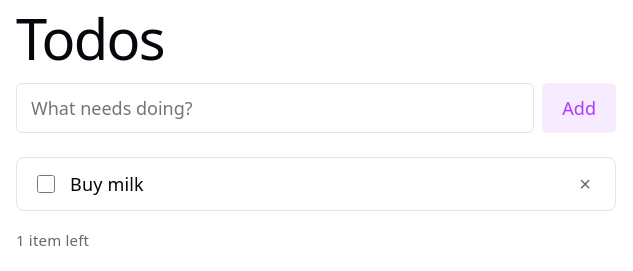
Test: inline editing › commits a changed title on blur
Click the text "Buy milk". click: [107, 184]
box: [70,172,144,196]
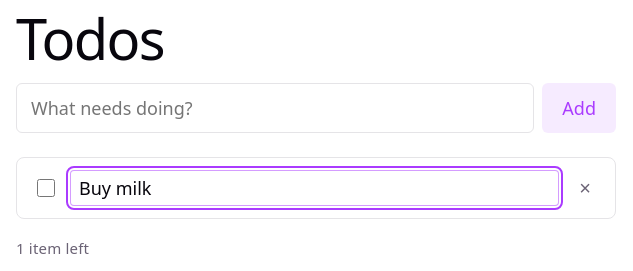
Replace the text in the field showing "Buy milk" with "Buy oat milk". click: [315, 188]
box: [70,170,559,206]
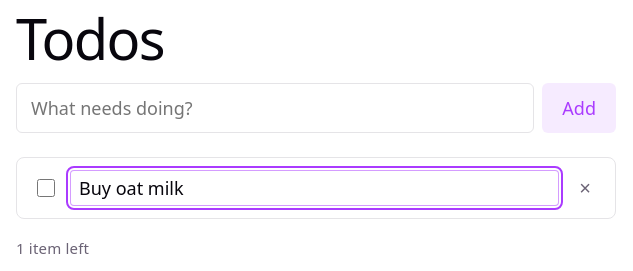
Press Tab
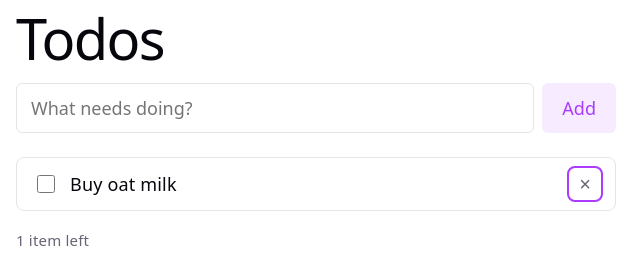
Now the text "Buy oat milk" is shown, box [70,172,177,196]
